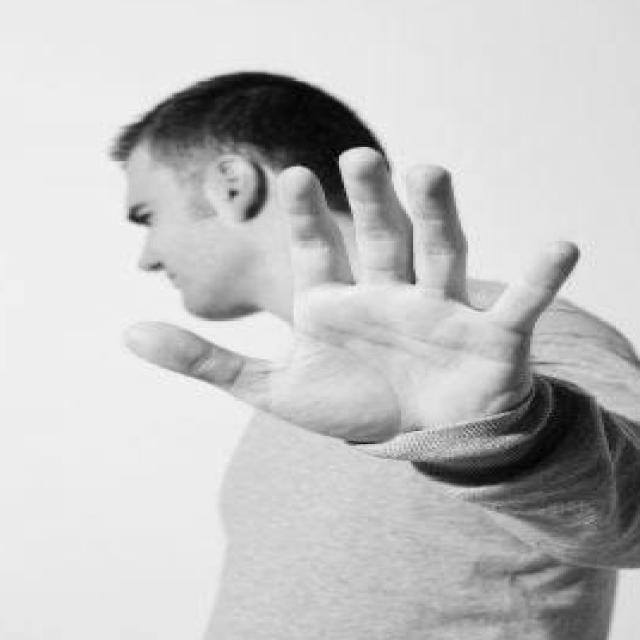stop: (110, 142, 588, 450)
